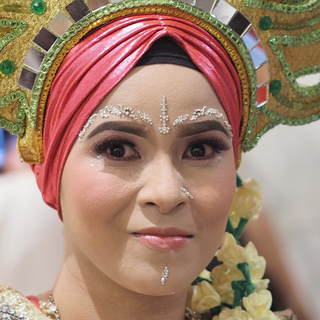eye: (84, 133, 149, 168), (177, 138, 229, 168)
